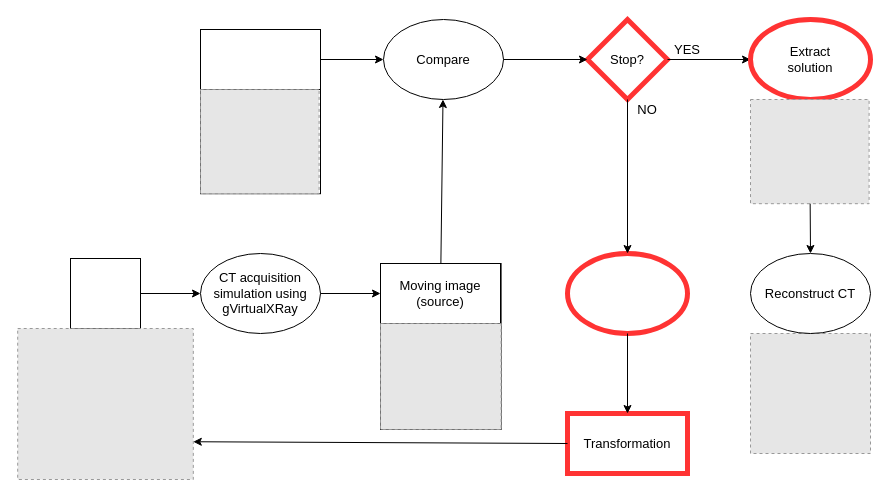
Image size: 890x497. Some labels were removed from this diagram. Grey dashed boxes stand in for pictures. Each missing label, with the box of its shape:
CAD models: (70, 258, 140, 328)
Optimise parameters: (564, 250, 690, 336)
Reference image (target): (200, 28, 320, 90)
